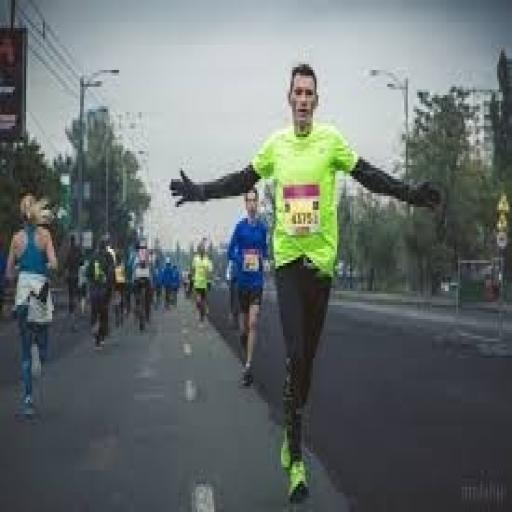running: (168, 58, 450, 504)
